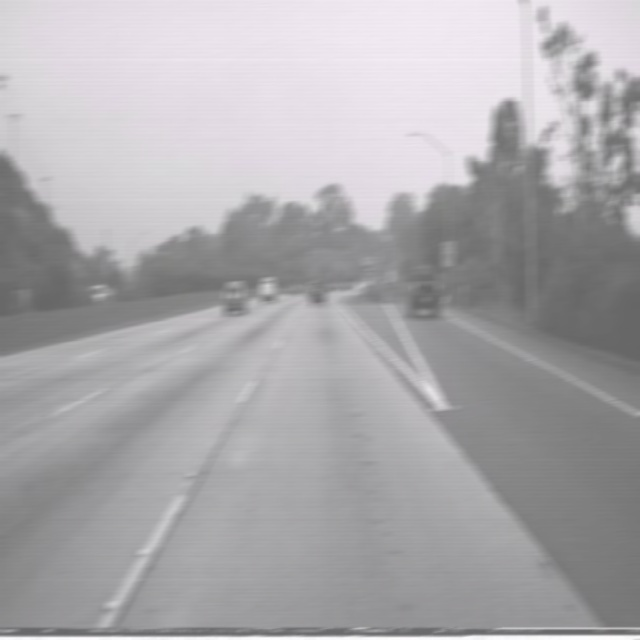rampSpeedAdvisory45: (443, 240, 453, 268)
